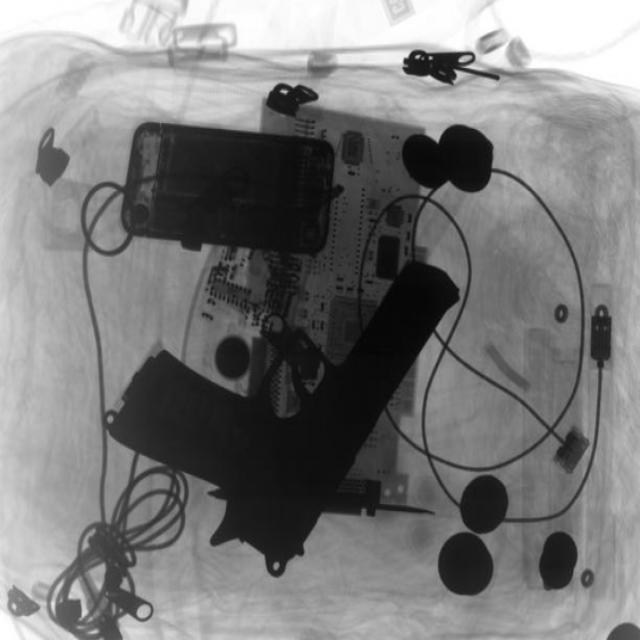GUN: (117, 249, 449, 572)
